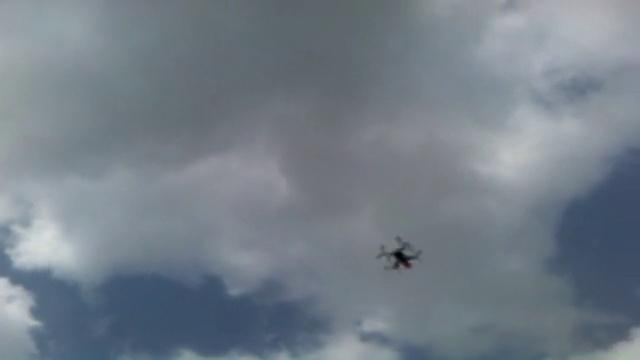drone: (373, 231, 425, 274)
